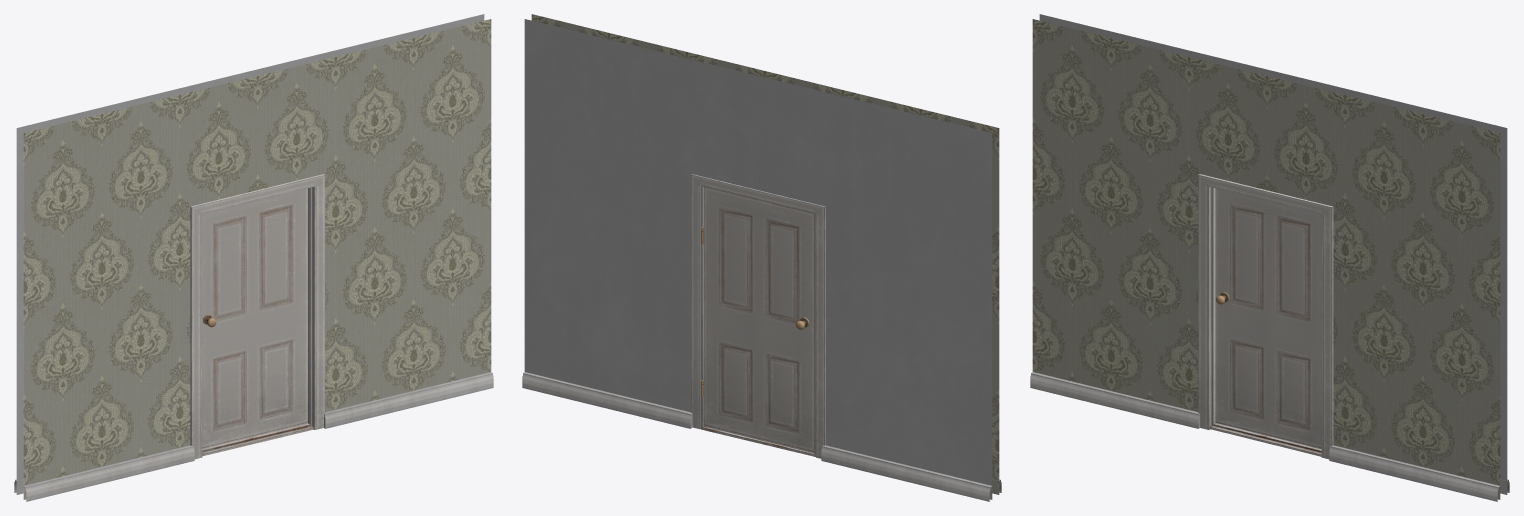
Rendered from Inner_Wall_Door_04.fbx.
3 views of the same model, side by side, from view 1: azimuth 30°, elevation 25°; view 2: azimuth 150°, elevation 25°; view 3: azimuth 330°, elevation 25° (orthographic).
Visible parts, largest first — view 1: Inner_Wall_Door_04_LOD0, Inner_Door_04_LOD0; view 2: Inner_Wall_Door_04_LOD0, Inner_Door_04_LOD0; view 3: Inner_Wall_Door_04_LOD0, Inner_Door_04_LOD0.
Part boxes in pixels (left/top/right/bottom): Inner_Wall_Door_04_LOD0: left=14, top=14, right=493, bottom=501; Inner_Door_04_LOD0: left=202, top=188, right=307, bottom=448; Inner_Wall_Door_04_LOD0: left=522, top=14, right=1001, bottom=501; Inner_Door_04_LOD0: left=703, top=186, right=814, bottom=453; Inner_Wall_Door_04_LOD0: left=1030, top=14, right=1509, bottom=501; Inner_Door_04_LOD0: left=1215, top=188, right=1321, bottom=448.
Size of what is drawn, in the model's own units: 400 by 300 by 22.41.
